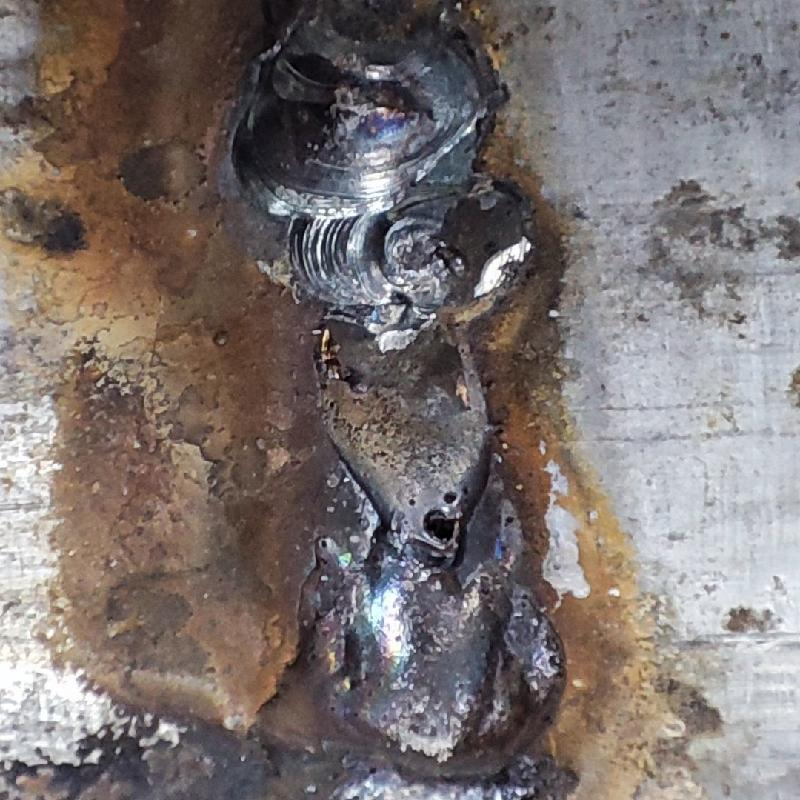Not_fully_soldered: (278, 208, 514, 560)
Surface_pores: (388, 485, 483, 557)
Weld: (288, 560, 581, 796)
wrong_size: (235, 0, 496, 205)
